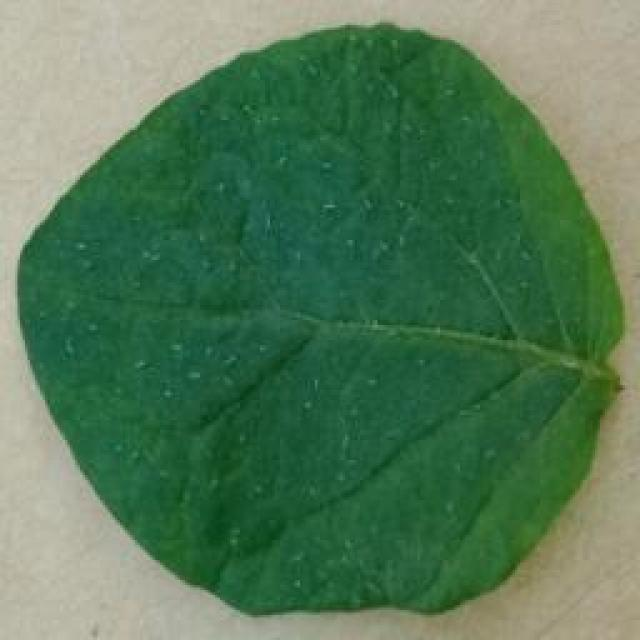Potato_Healthy: (18, 26, 620, 616)
